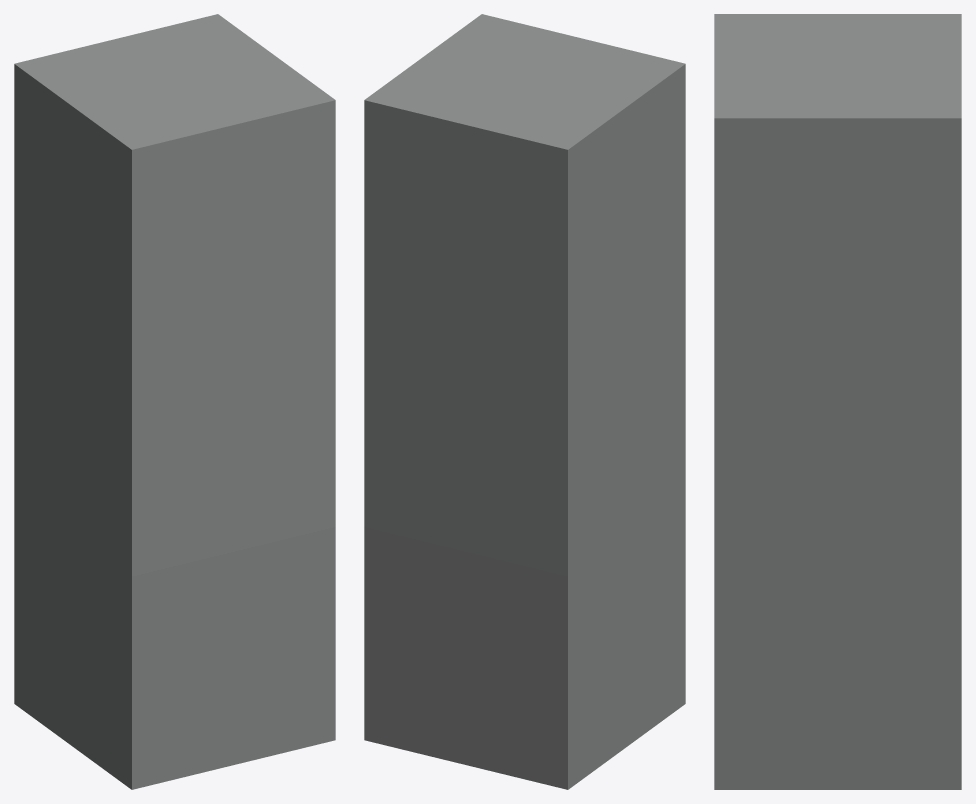
File: BeregA24_Trigger.glb
The picture shows the model from 3 angles, left to right: view 1: azimuth 30°, elevation 25°; view 2: azimuth 150°, elevation 25°; view 3: azimuth 270°, elevation 25°; orthographic projection. The views are drawn at different scales.
Visible parts, largest first — view 1: Trigger; view 2: Trigger; view 3: Trigger.
Part boxes in pixels (x1,y1,x2,y2): Trigger: (14,14,335,789); Trigger: (364,14,685,789); Trigger: (714,14,961,789).
Size of the model in its own units: 0.00687 by 0.0206 by 0.00687.
Materials: 1 (1 with a texture image).
